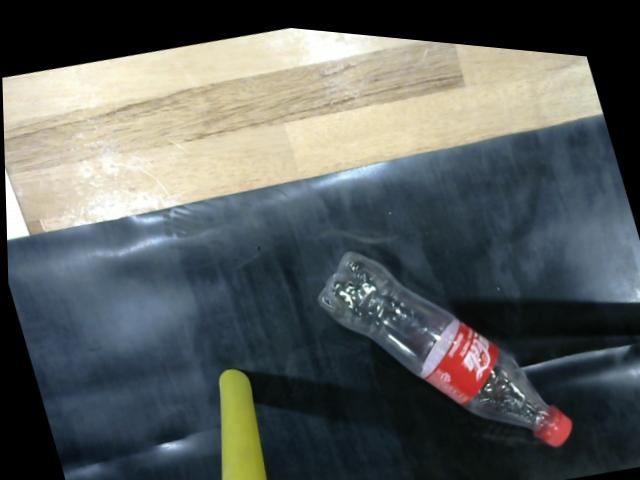bottle: (308, 231, 586, 451)
